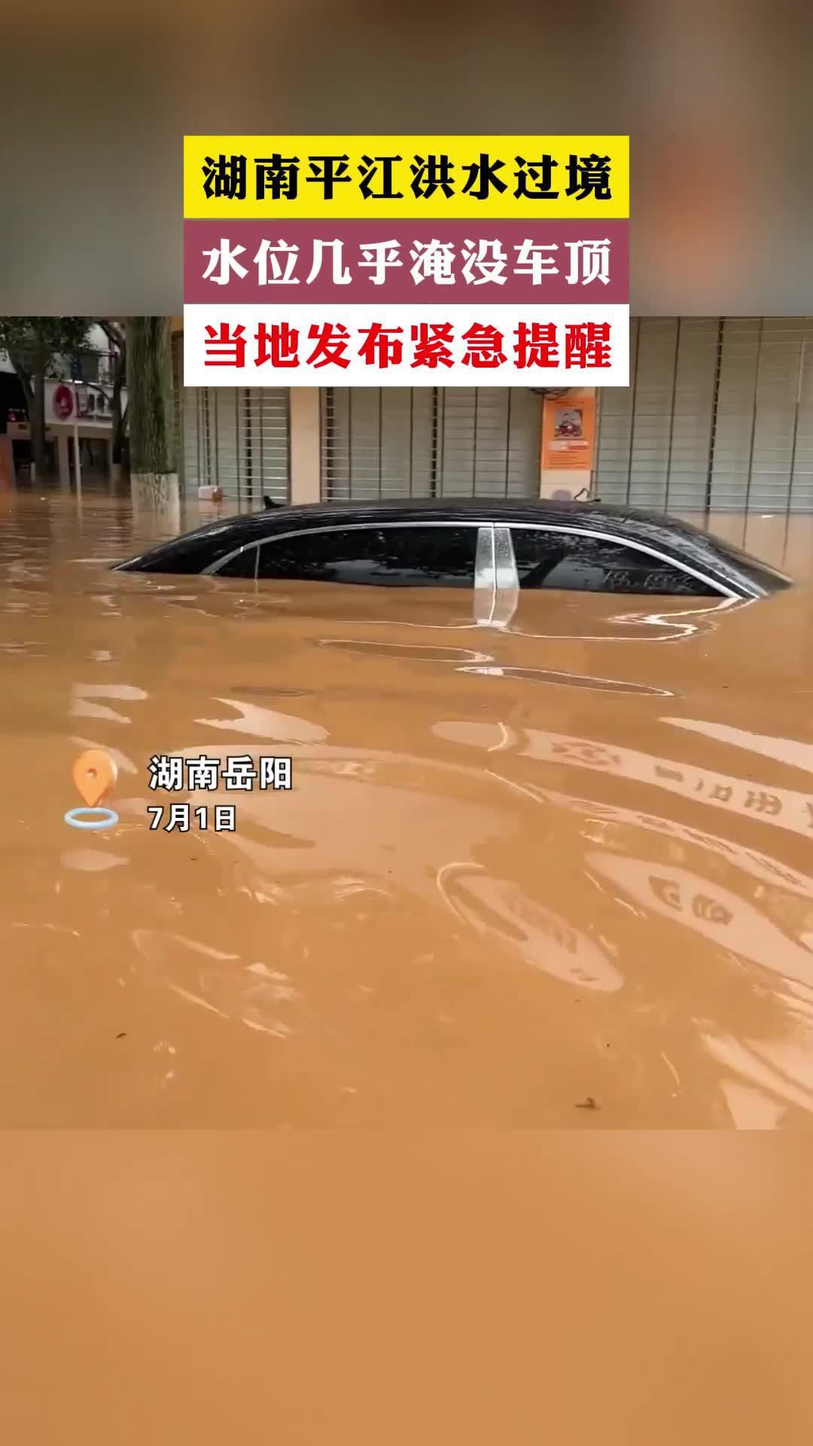water: (0, 487, 812, 1443)
